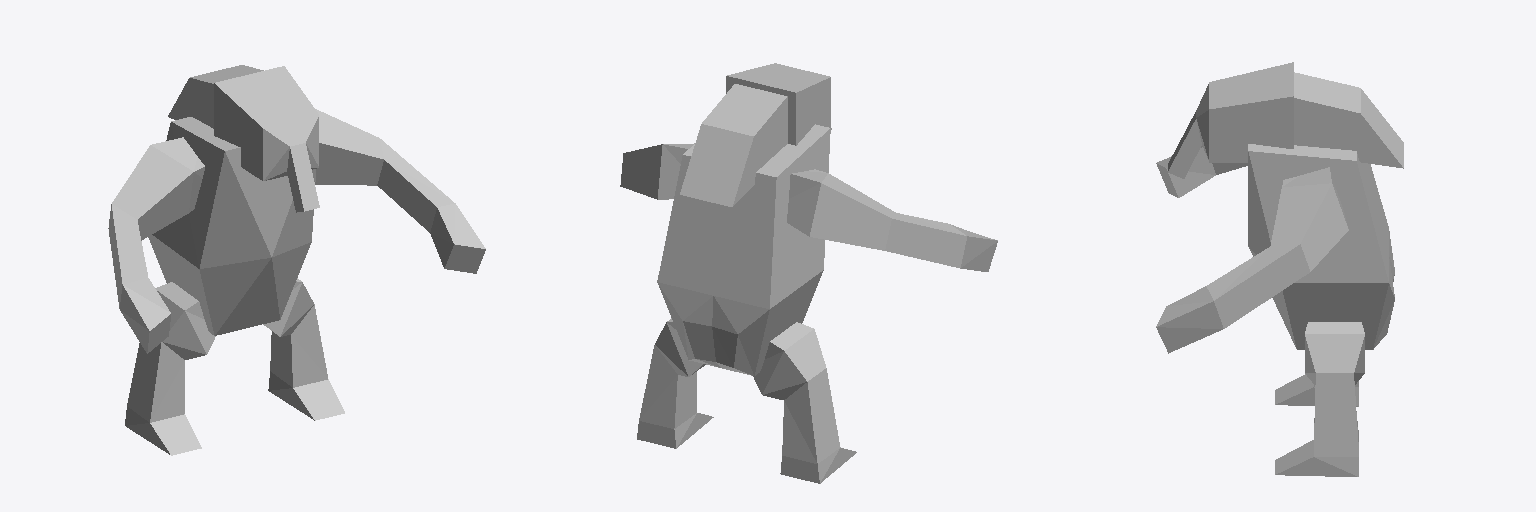
Rendered from troll.obj.
The picture shows the model from 3 angles: view 1: azimuth 30°, elevation 25°; view 2: azimuth 150°, elevation 25°; view 3: azimuth 270°, elevation 25°; orthographic projection.
Parts seen in each view (by area): view 1: Body, Head, RightArm, LeftArm, RightLeg, LeftLeg; view 2: Body, Head, RightArm, RightLeg, LeftLeg, LeftArm; view 3: Body, Head, LeftArm, LeftLeg, RightArm, RightLeg.
Boxes of the visible parts, box(x1,y1,x2,y2) form: Body: box(148, 117, 315, 335); Head: box(168, 65, 319, 212); RightArm: box(108, 137, 204, 353); LeftArm: box(315, 109, 485, 273); RightLeg: box(125, 282, 215, 455); LeftLeg: box(263, 278, 344, 420); Body: box(657, 124, 830, 375); Head: box(680, 63, 831, 206); RightArm: box(787, 169, 997, 271); RightLeg: box(753, 322, 856, 483); LeftLeg: box(637, 318, 713, 448); LeftArm: box(620, 143, 694, 199); Body: box(1248, 144, 1394, 349); Head: box(1168, 62, 1403, 178); LeftArm: box(1156, 167, 1348, 353); LeftLeg: box(1275, 322, 1364, 476); RightArm: box(1156, 146, 1247, 197); RightLeg: box(1275, 374, 1358, 406).
Bounding box in the file's own units: 3.59 × 3.6 × 2.29.